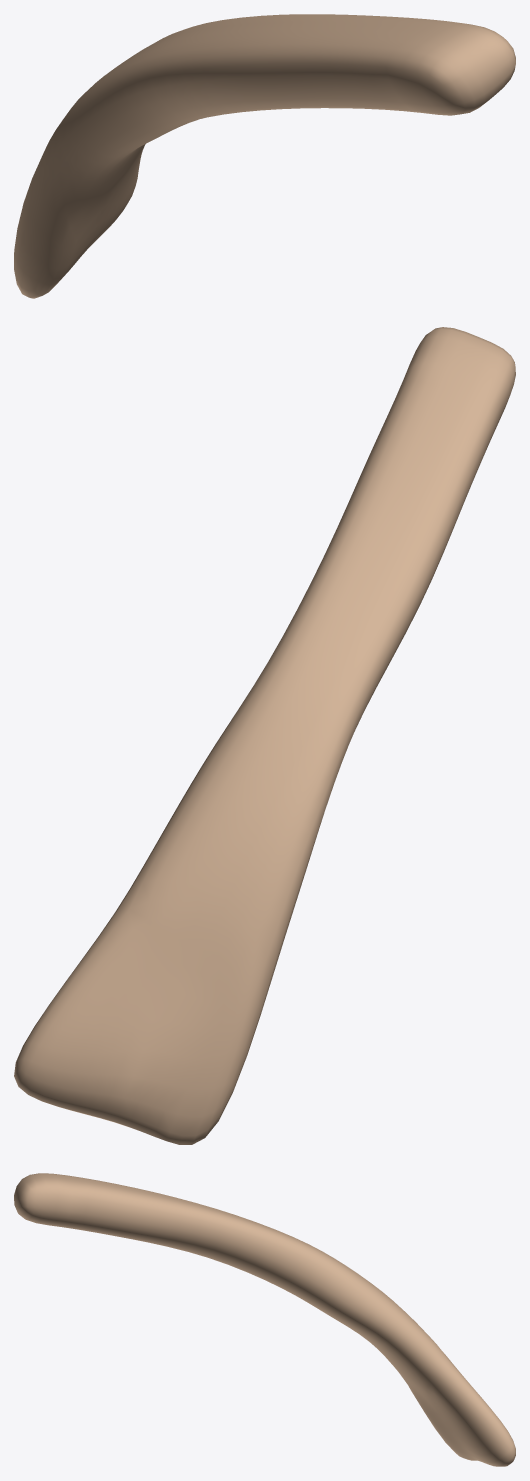
The picture shows the model from 3 angles, top to bottom: view 1: azimuth 30°, elevation 25°; view 2: azimuth 150°, elevation 25°; view 3: azimuth 270°, elevation 25°; orthographic projection. The views are drawn at different scales.
Parts seen in each view (by area): view 1: 左侧趾长伸肌腱鞘; view 2: 左侧趾长伸肌腱鞘; view 3: 左侧趾长伸肌腱鞘.
Part boxes in pixels (<box>): 左侧趾长伸肌腱鞘: <box>14,14,515,298</box>; 左侧趾长伸肌腱鞘: <box>14,327,515,1144</box>; 左侧趾长伸肌腱鞘: <box>14,1173,515,1466</box>.
Size of the model in its own units: 0.0246 by 0.0684 by 0.1017.
